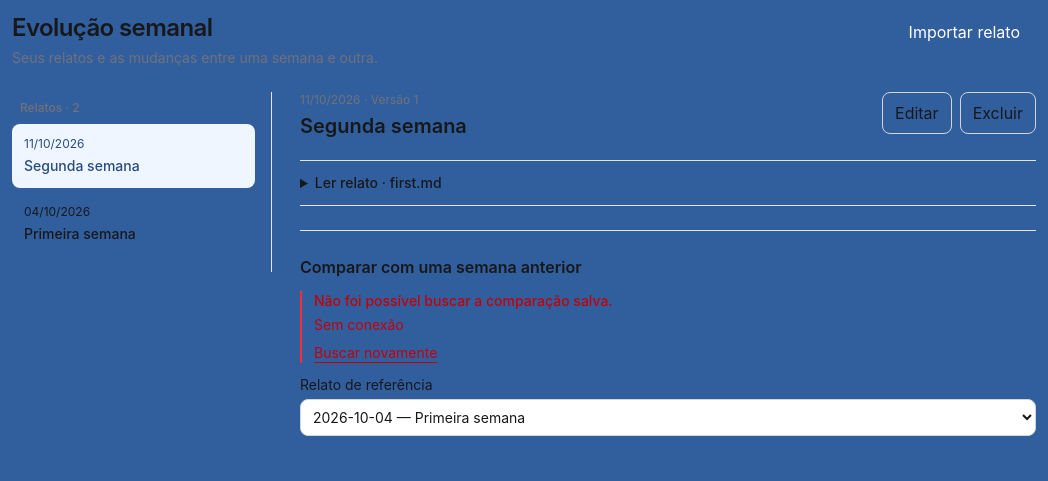
Scenario: weekly evolution › does not offer generation when the saved comparison could not be loaded
expect the message "Não foi possível buscar a comparação salva. Sem conexão Buscar novamente" is shown: met, box [300,291,1036,363]
expect the button "Gerar comparação com IA" is not shown: met
Click the button "Buscar novamente". click: (376, 353)
box: [314,343,437,363]
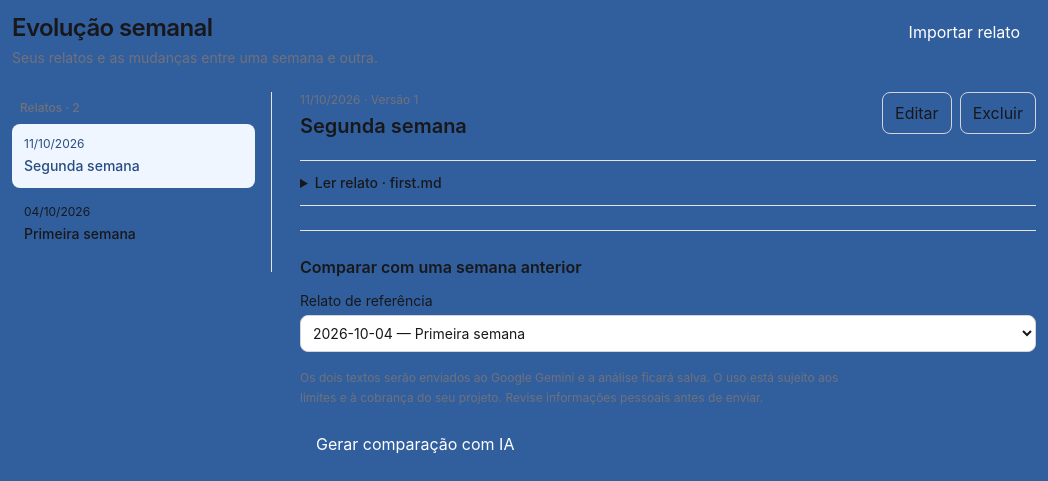
expect the button "Gerar comparação com IA" is shown: met, box [300,424,530,464]
